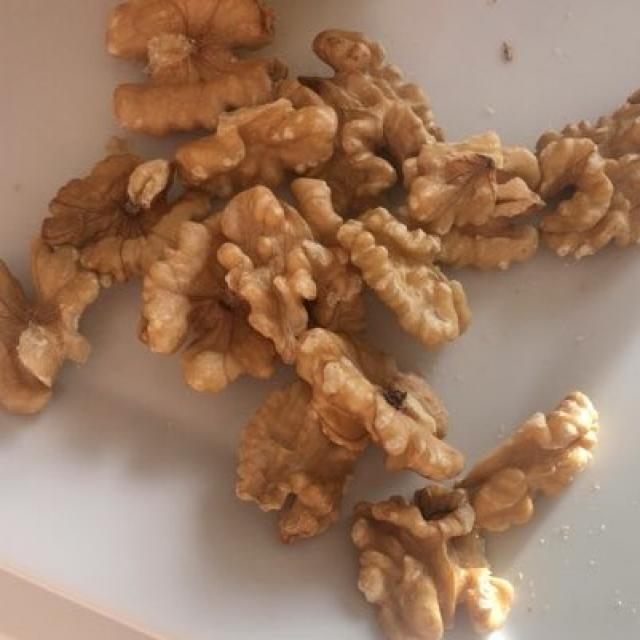walnut: (6, 15, 628, 622)
